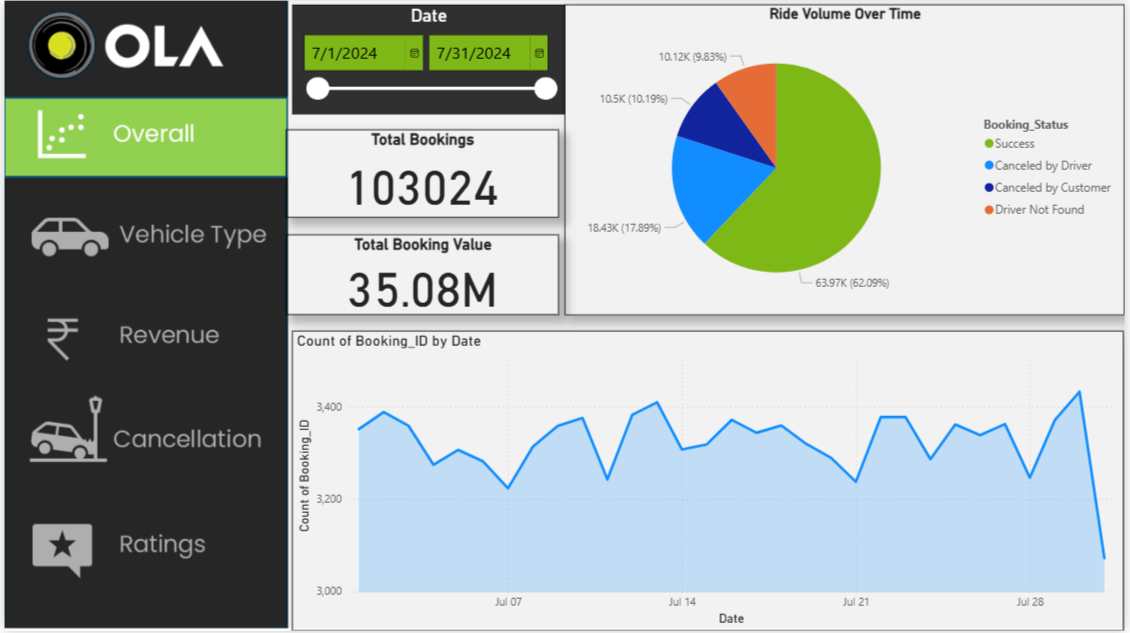

The dashboard page shown, as its layout file describes it:
{"tool":"powerbi","page":{"name":"overall","canvas":[1280,720],"ordinal":0},"visuals":[{"type":"actionButton","box":[0,112.4,322.8,89.6],"z":0},{"type":"actionButton","box":[0,202,322.8,116.6],"z":1000},{"type":"actionButton","box":[0,318.6,322.8,116.6],"z":2000},{"type":"actionButton","box":[1.4,435.2,322.8,116.6],"z":3000},{"type":"actionButton","box":[0,551.8,322.8,167.8],"z":4000},{"type":"lineChart","fields":{"Y":["CountNonNull(Bookings (2).Booking_ID)"],"Category":["Bookings (2).Date"]},"box":[329.2,376.9,950.8,343.1],"z":5000},{"type":"pieChart","title":"Ride Volume Over Time","fields":{"Y":["CountNonNull(Bookings (2).Booking_ID)"],"Category":["Bookings (2).Booking_Status"]},"box":[640,4.6,640,355.4],"z":6000},{"type":"slicer","title":"Date","fields":{"Values":["Bookings (2).Date"]},"box":[328.9,4.3,311.6,125.5],"z":7000},{"type":"card","title":"Total Bookings","fields":{"Values":["Count(Bookings (2).Booking_ID)"]},"box":[321.7,147.2,311.6,101],"z":8000},{"type":"card","title":"Total Booking Value","fields":{"Values":["Sum(Bookings (2).Booking_Value)"]},"box":[321.5,267.7,312.3,92.3],"z":9000}]}

Visuals, with their boxes in screenshot pixels (x1, y1, x2, y2), scaled from the page's 1280x720 canvas onto the 1130x633 screenshot:
actionButton: <region>0, 99, 285, 178</region>
actionButton: <region>0, 178, 285, 280</region>
actionButton: <region>0, 280, 285, 383</region>
actionButton: <region>1, 383, 286, 485</region>
actionButton: <region>0, 485, 285, 632</region>
lineChart - CountNonNull(Bookings (2).Booking_ID) x Bookings (2).Date: <region>291, 331, 1129, 632</region>
"Ride Volume Over Time" pieChart: <region>565, 4, 1129, 316</region>
"Date" slicer: <region>290, 4, 565, 114</region>
"Total Bookings" card: <region>284, 129, 559, 218</region>
"Total Booking Value" card: <region>284, 235, 560, 316</region>
